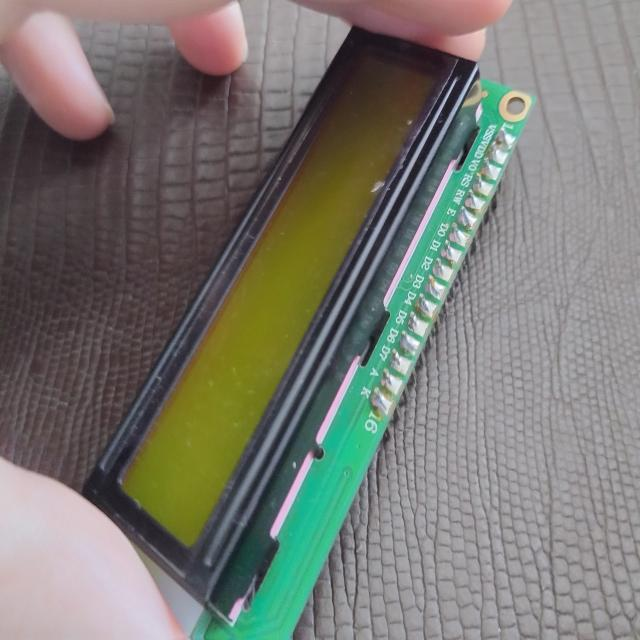lcd: (88, 10, 530, 640)
